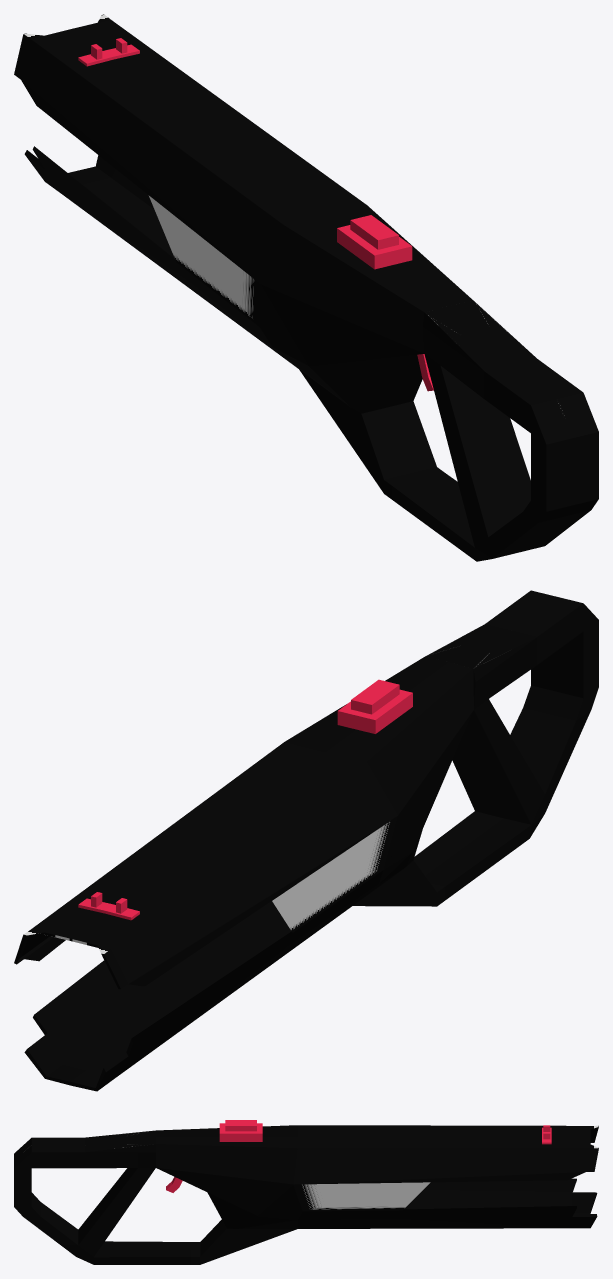
Rendered from gun.fbx.
3 renders of one model, top to bottom at view 1: azimuth 30°, elevation 25°; view 2: azimuth 150°, elevation 25°; view 3: azimuth 270°, elevation 25°, orthographic. The views are drawn at different scales.
Visible parts, largest first — view 1: Gun, Scope, Crosshair; view 2: Gun, Scope, Crosshair; view 3: Gun, Scope.
Part boxes in pixels (x1,y1,x2,y2): Gun: [14, 14, 598, 561]; Scope: [337, 215, 412, 269]; Crosshair: [78, 38, 139, 66]; Gun: [14, 590, 598, 1091]; Scope: [337, 679, 412, 733]; Crosshair: [78, 892, 139, 920]; Gun: [14, 1125, 598, 1264]; Scope: [219, 1120, 262, 1141].
Size of the model in its own units: 1027 by 1672 by 6595.
